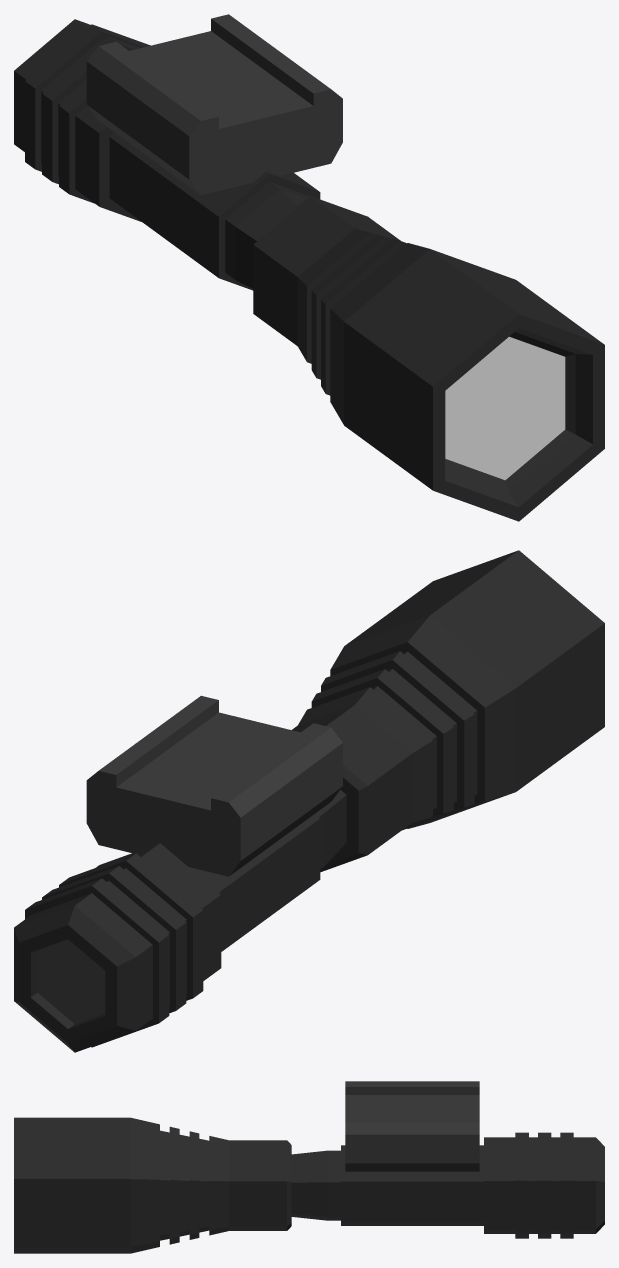
Rendered from Light_Pistol_A.fbx.
The picture shows the model from 3 angles, top to bottom: view 1: azimuth 30°, elevation 25°; view 2: azimuth 150°, elevation 25°; view 3: azimuth 270°, elevation 25°; orthographic projection. The views are drawn at different scales.
Visible parts, largest first — view 1: Light_Pistol_A; view 2: Light_Pistol_A; view 3: Light_Pistol_A.
Part boxes in pixels (<box>): Light_Pistol_A: <box>14,14,604,521</box>; Light_Pistol_A: <box>14,550,604,1052</box>; Light_Pistol_A: <box>14,1081,604,1253</box>.
Size of the model in its own units: 0.0363 by 0.0467 by 0.165.
